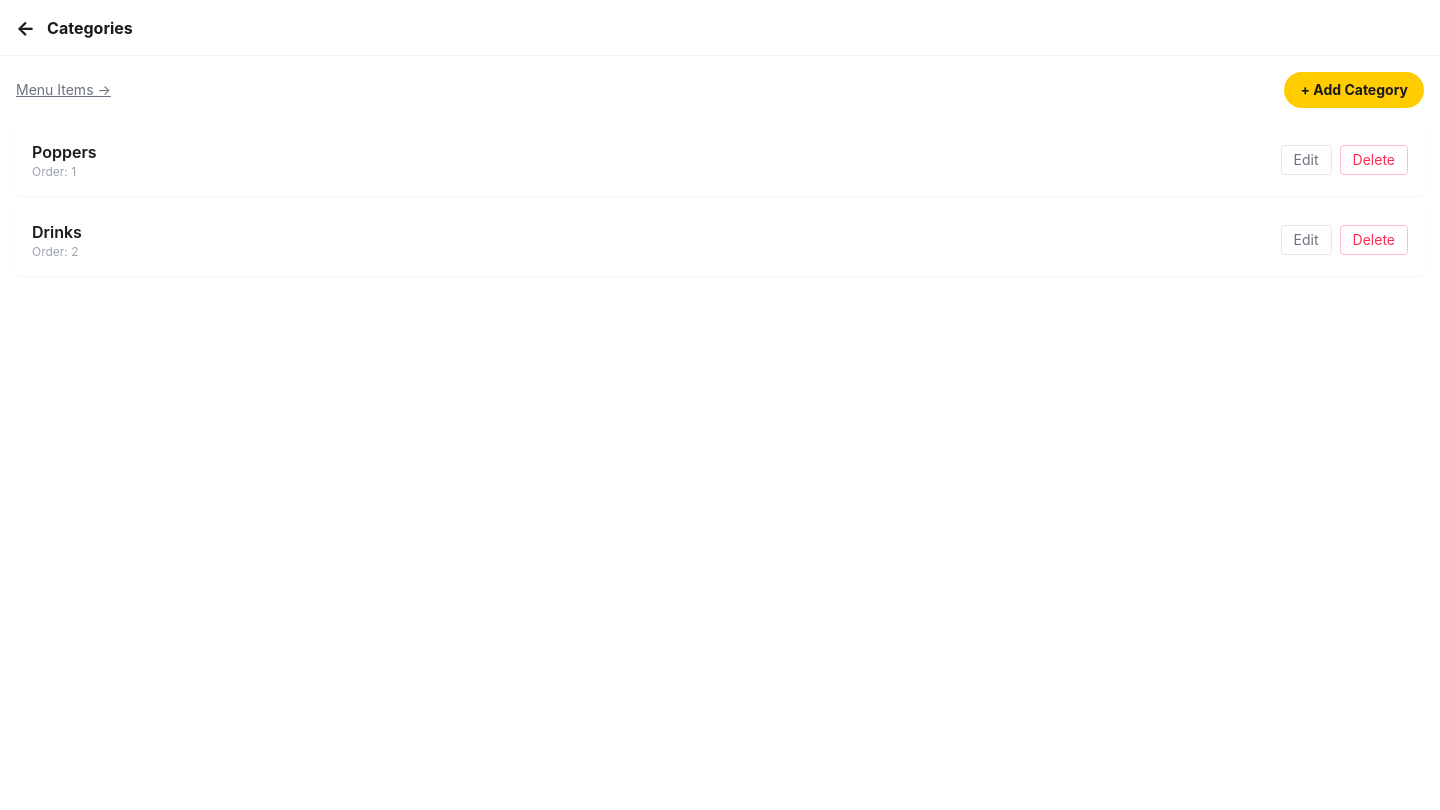
Test: Categories › opens edit form pre-filled when Edit clicked
Expected: the text "Poppers" is shown, [32,140,96,164]
Step 1. Click the button "Edit" in the row of "Poppers" → point(1306, 160), box [1281,145,1332,175]
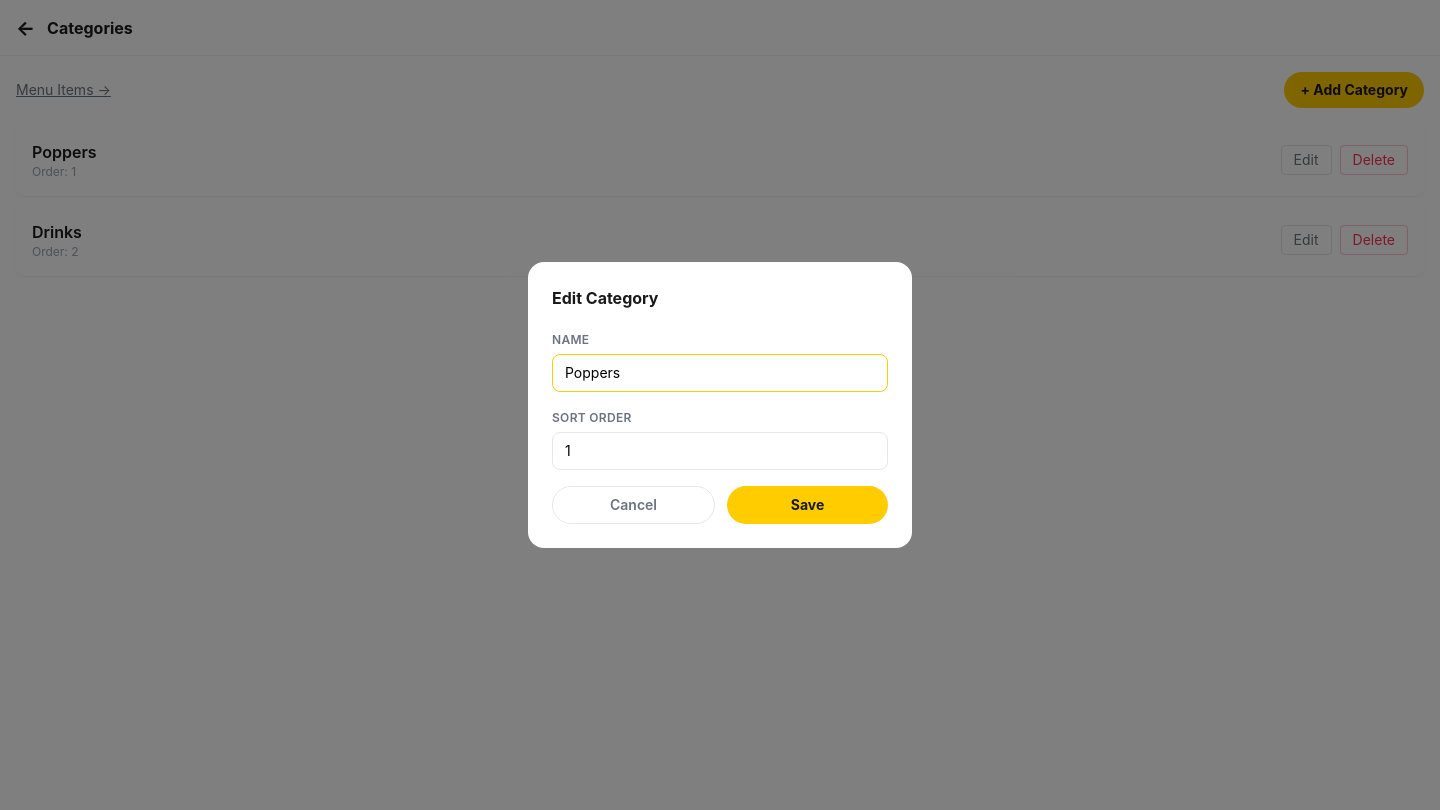
Expected: the heading "Edit Category" is shown, [552,288,658,308]
Expected: the field showing "Poppers" is shown, [552,354,888,392]
